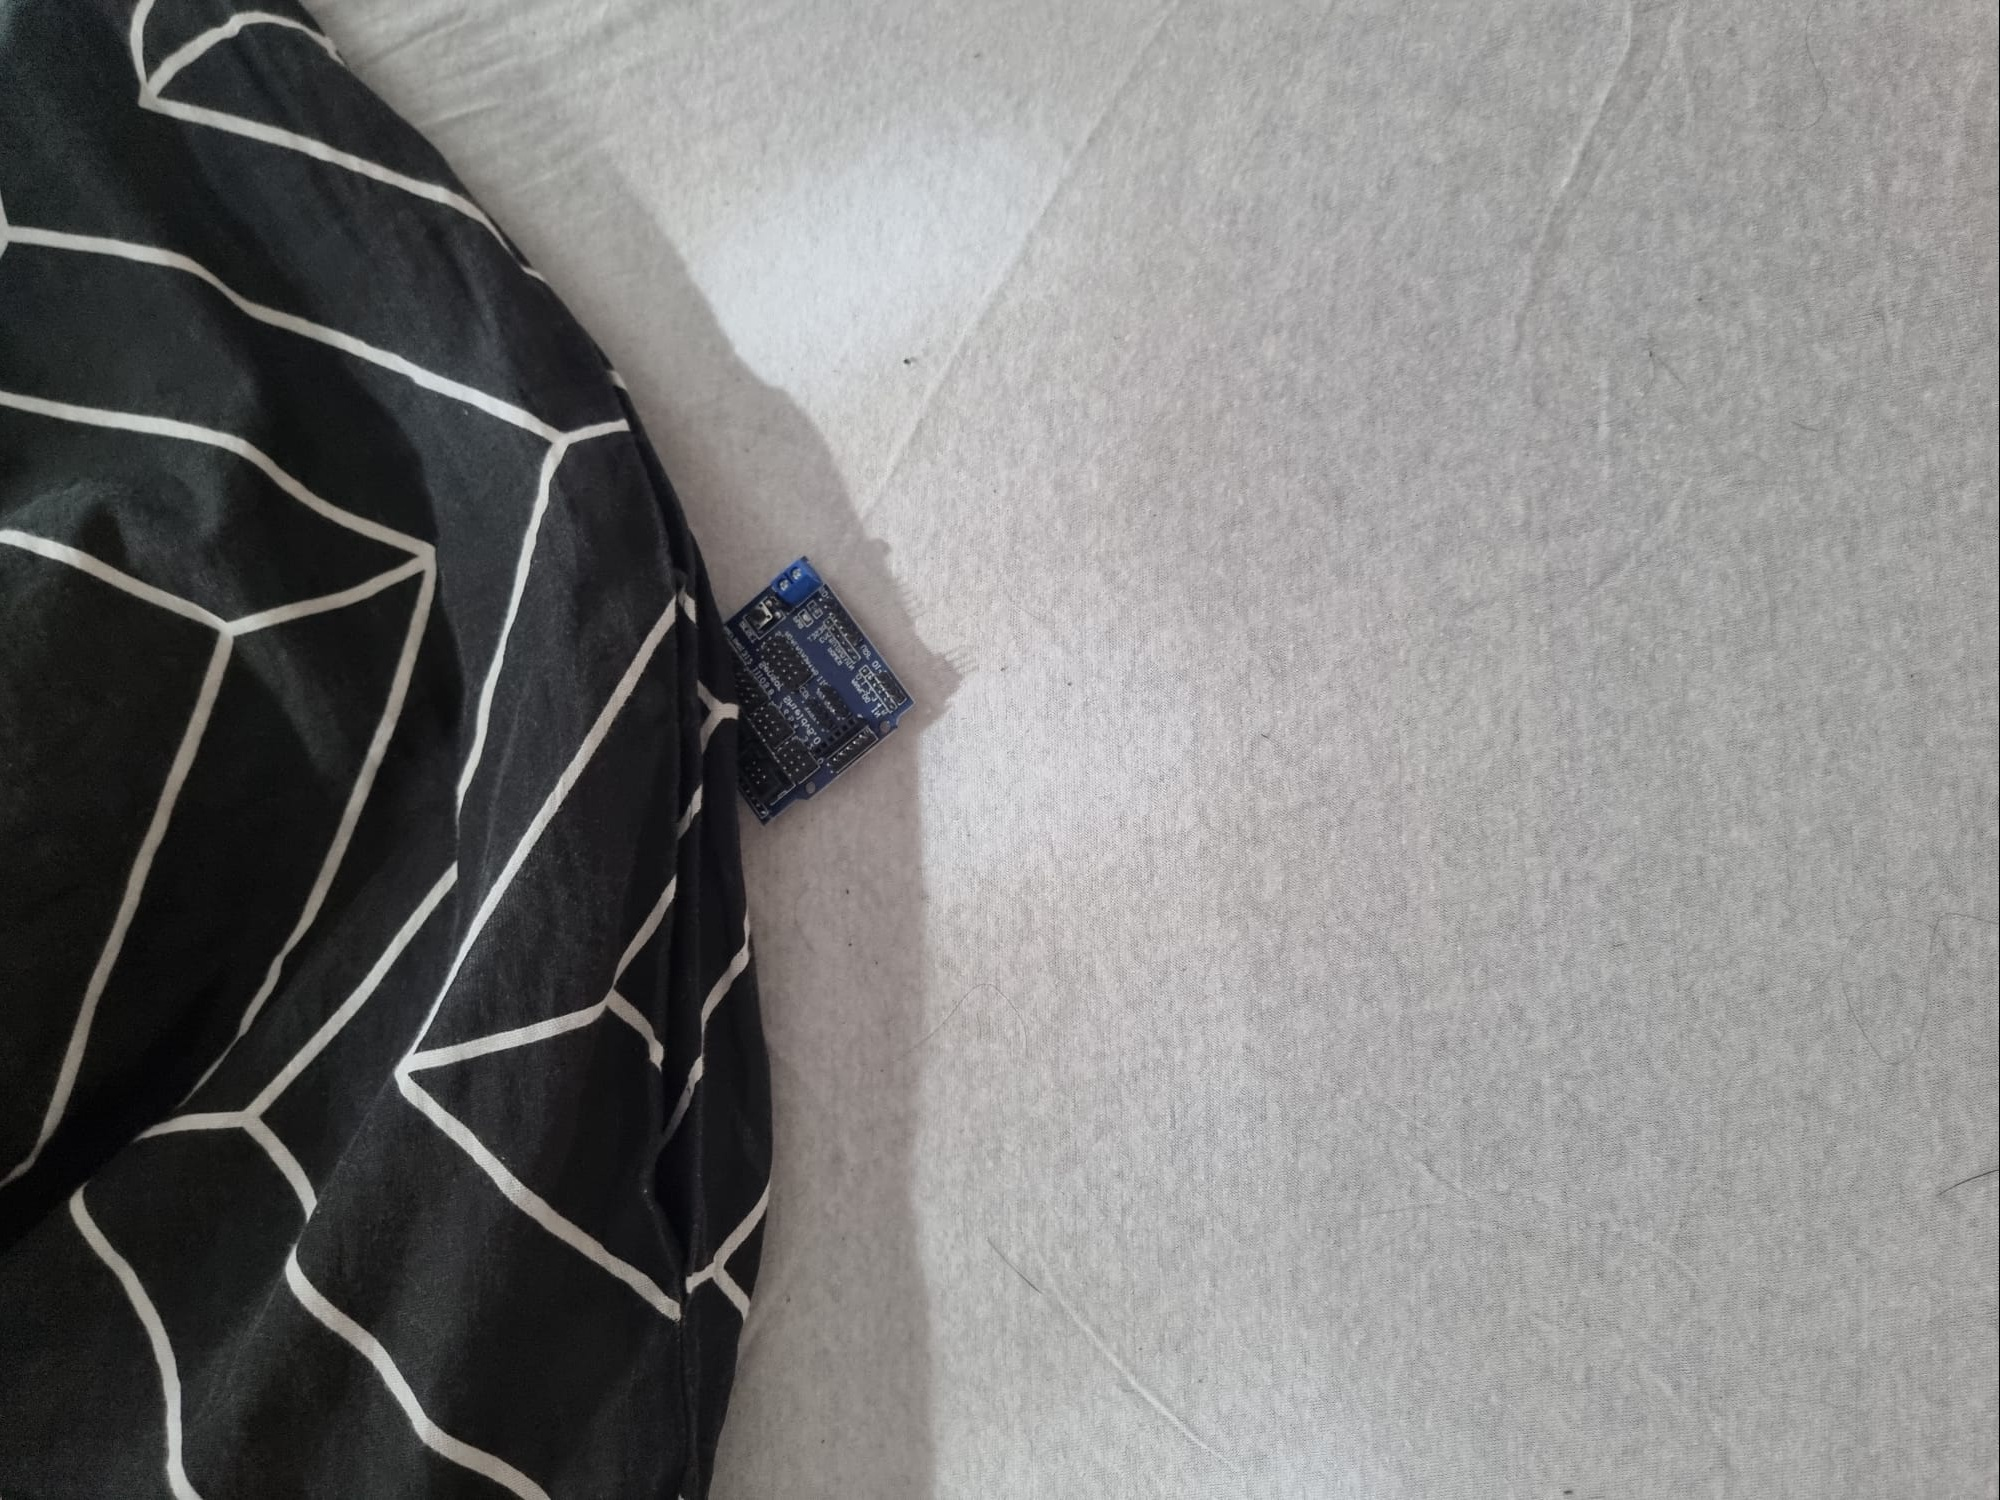5V EXPANSION: (682, 555, 935, 830)
